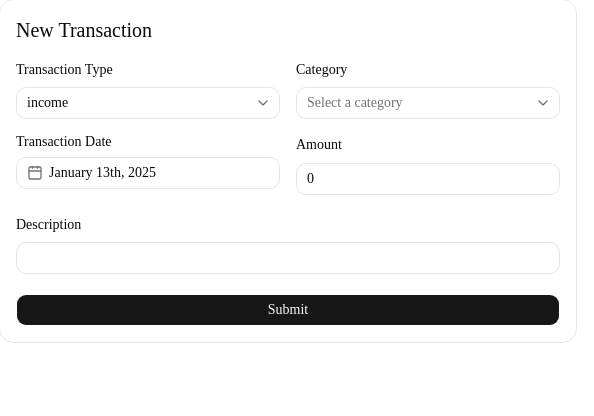
Test: TransactionForm › validation on an untouched form › marks the amount input as invalid after a failed submit
The width and height of the screenshot is (594, 416).
Click the button "Submit": point(288, 310) [16,294,560,326]
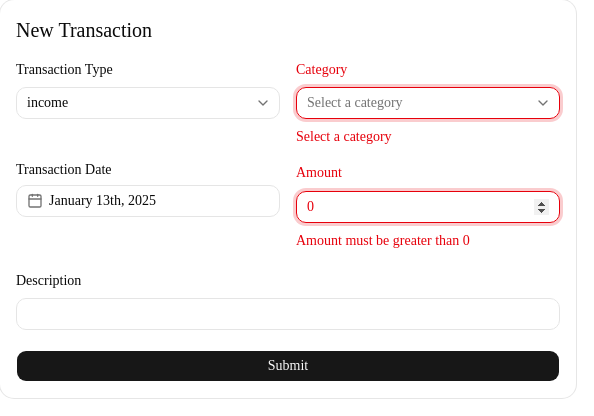
expect the text "Amount must be greater than 0" is shown: met, box [296,232,470,248]
